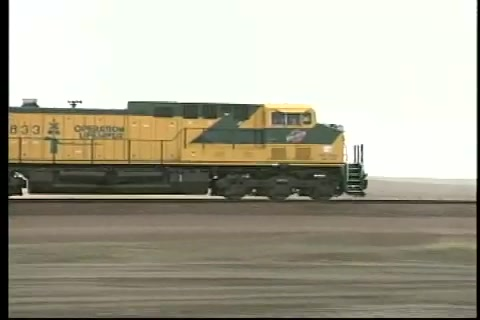train: (11, 96, 369, 203)
